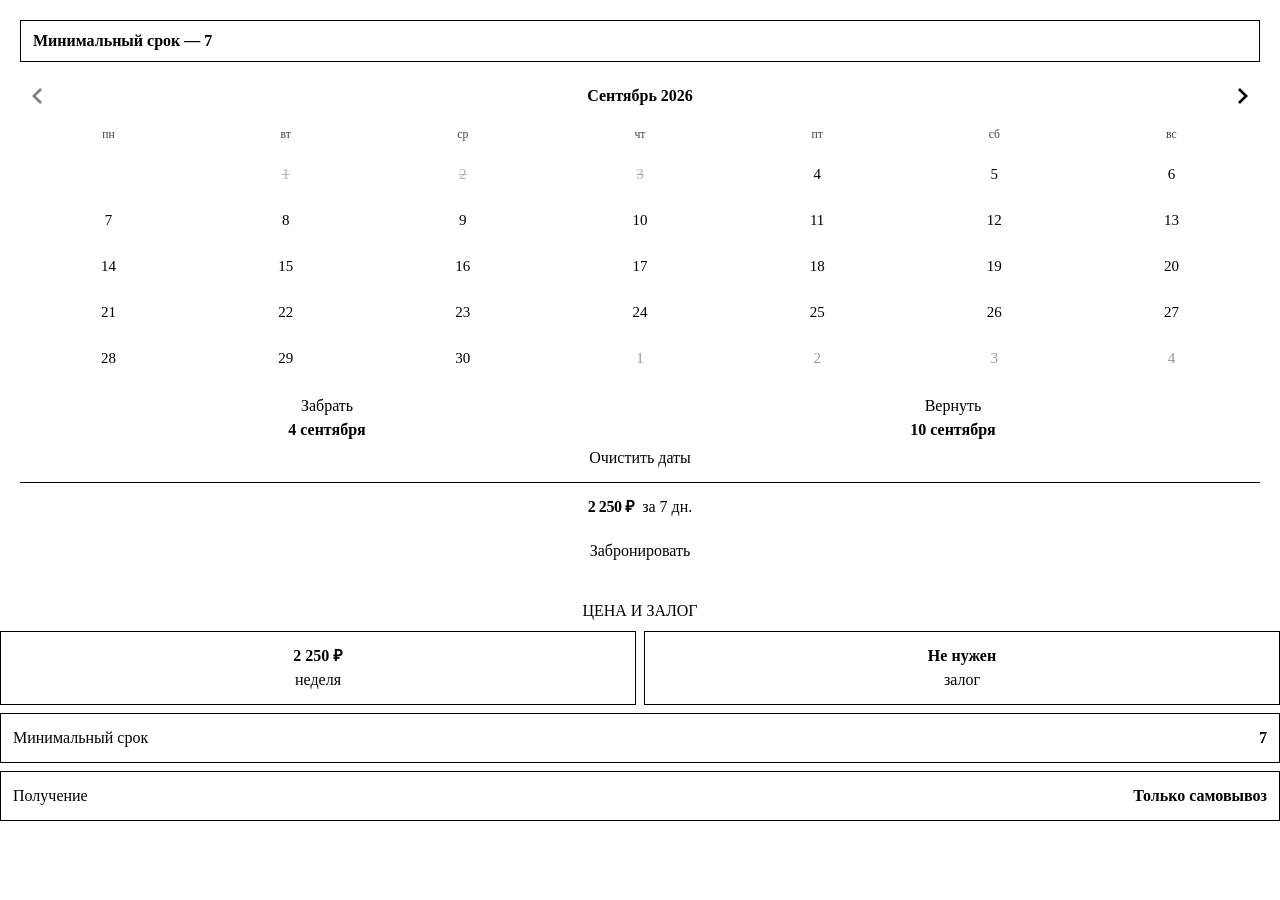
BookingWidget — минимальный срок › слишком короткий выбор растягивается до минимума с подсказкой
Click the button "Очистить даты". click: point(640, 458)
box: left=589, top=446, right=691, bottom=470
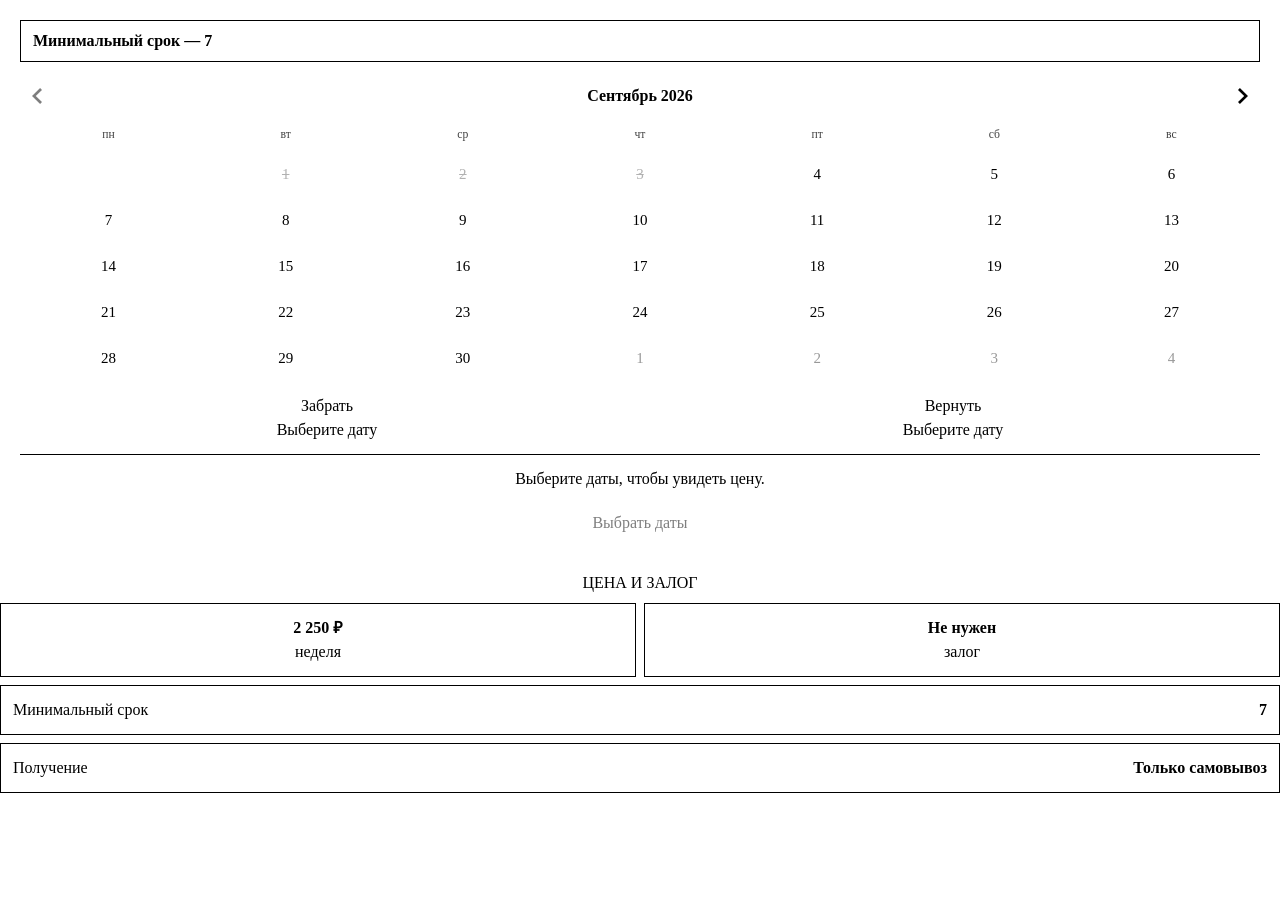
Click the button "12". click: point(994, 220)
box: left=907, top=198, right=1082, bottom=242
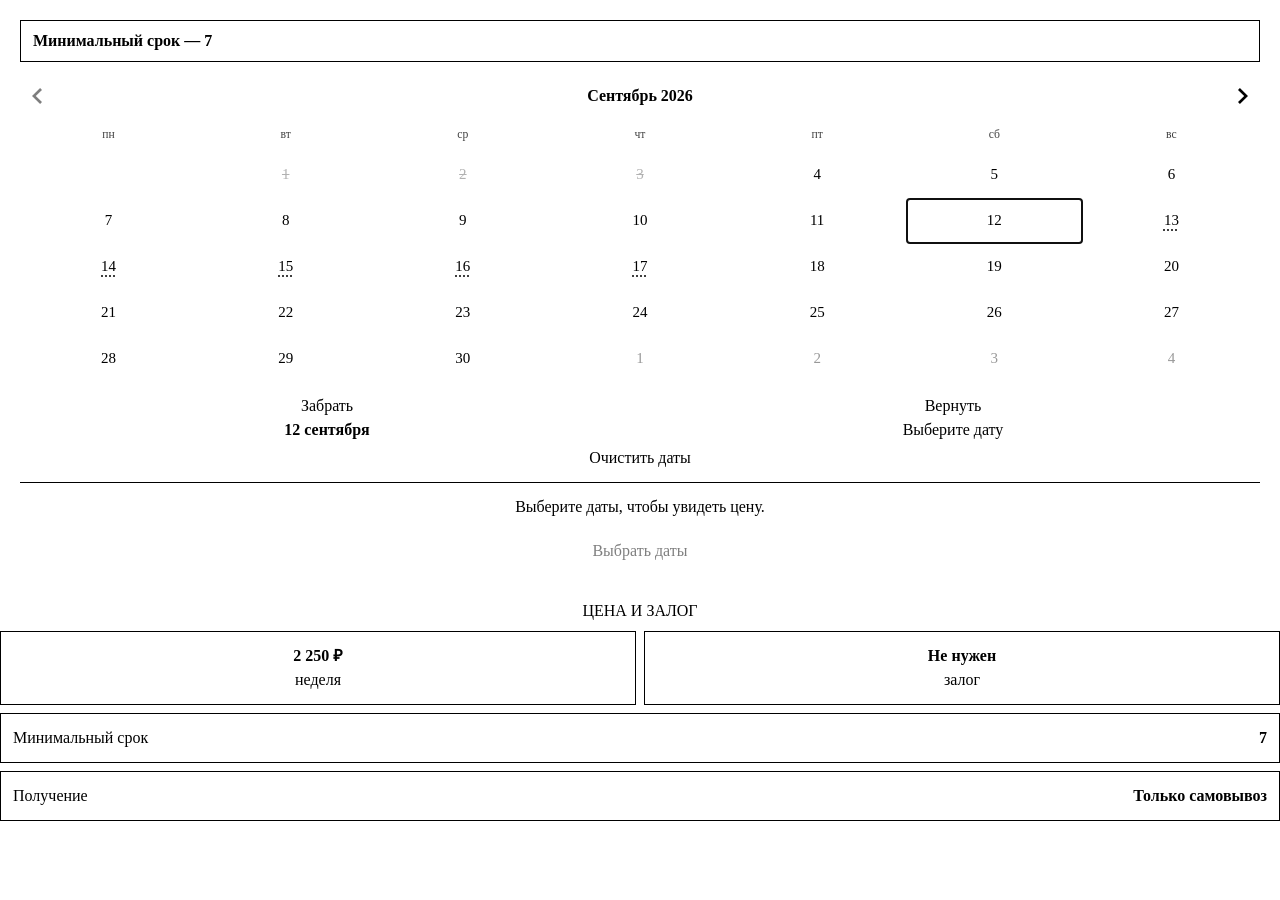
Click the button "14". click: point(109, 266)
box: left=21, top=244, right=196, bottom=288
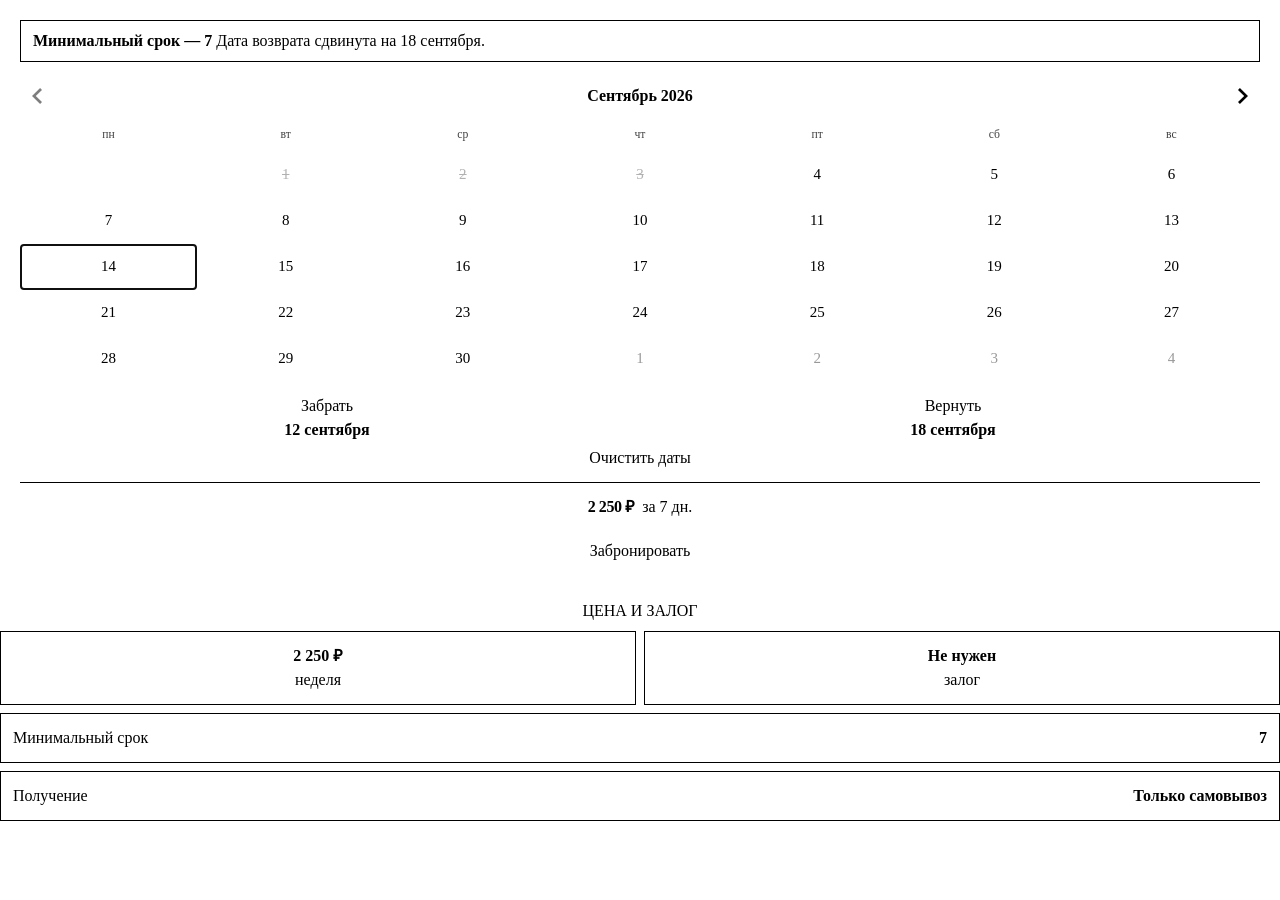
Result: the text "Минимальный срок — 7 Дата возврата сдвинута на 18 сентября." is shown at left=20, top=20, right=1260, bottom=62
Result: the button "Забронировать" is enabled at left=20, top=530, right=1260, bottom=570
